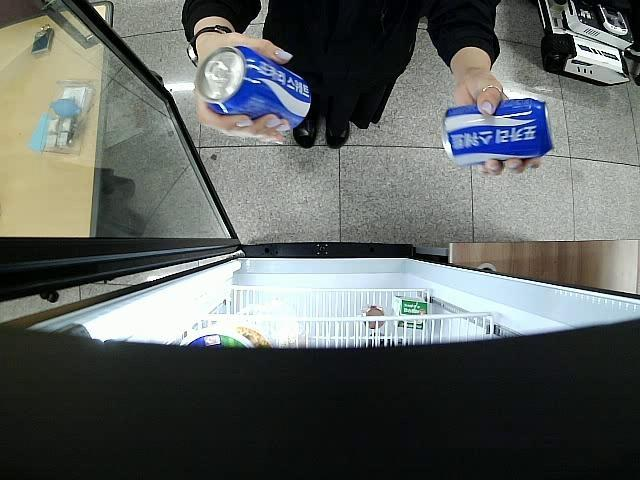13_pocariSweat: (194, 44, 310, 130), (440, 98, 556, 165)
